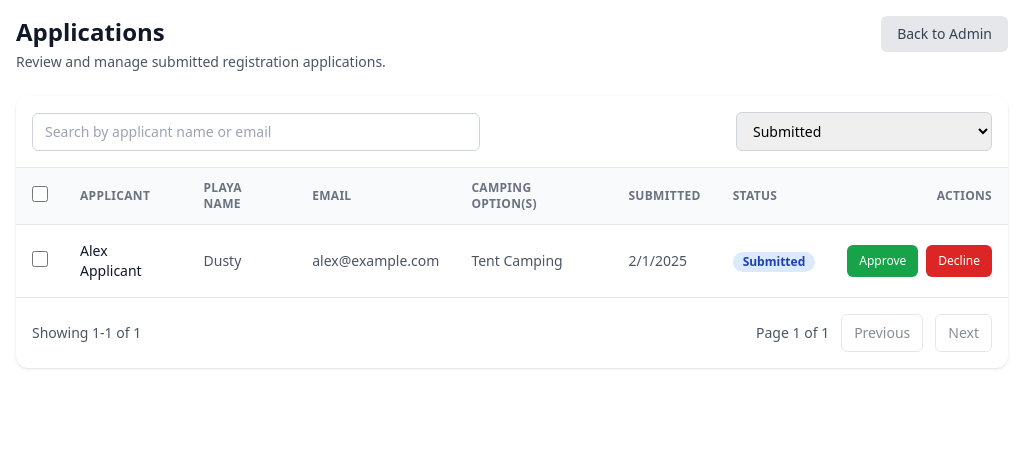
Test: AdminApplicationsPage › approves an individual application from the list
The width and height of the screenshot is (1024, 456).
Expected: the text "Alex Applicant" is shown, [64,224,188,297]
Click the button "Approve" at [883, 261], box [847,245,918,277]
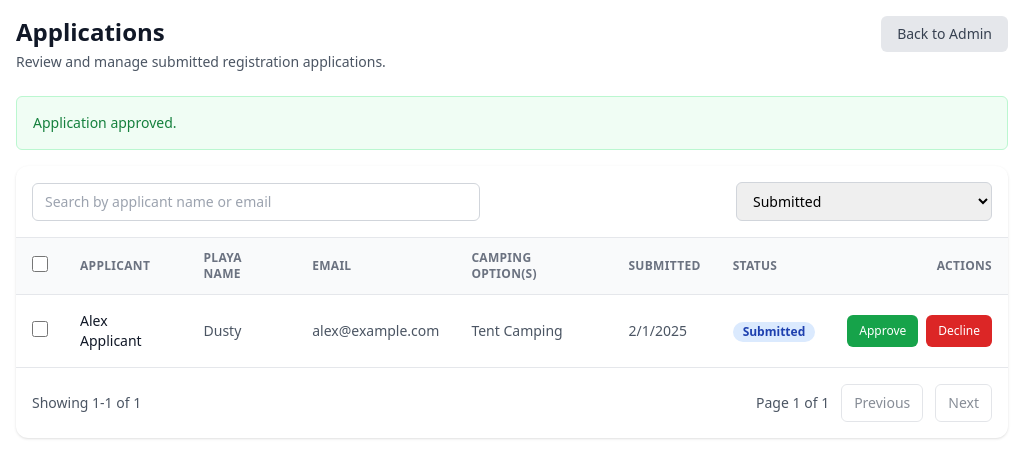
Now the text "Application approved." is shown, box [16,96,1008,150]
